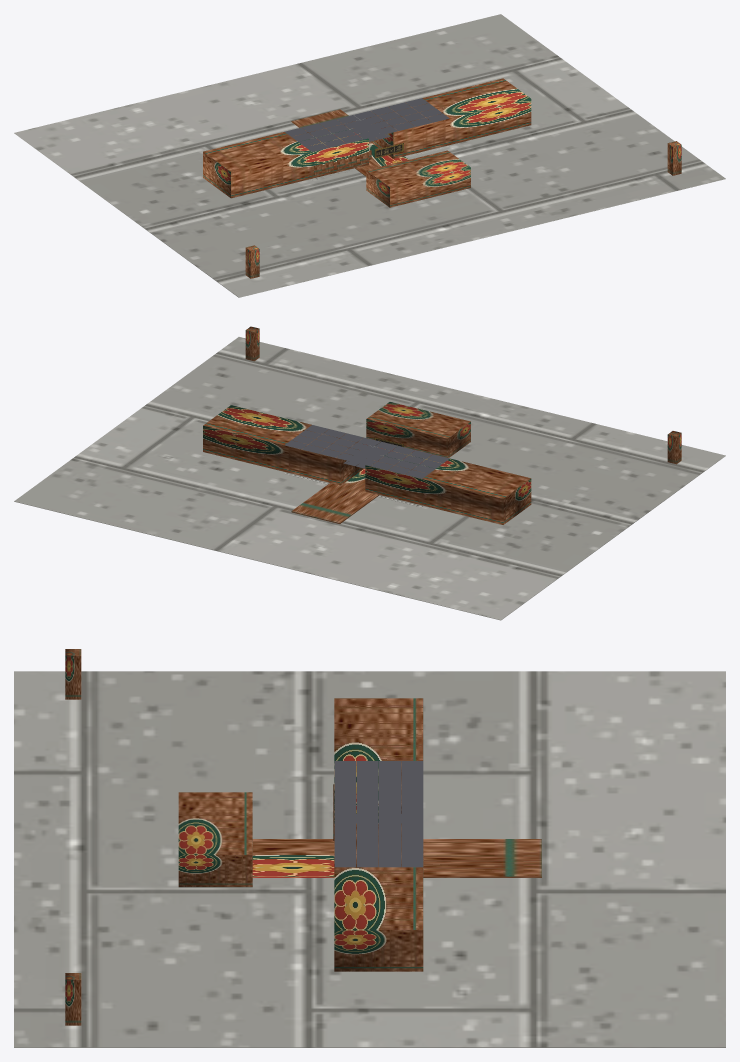
3 views of the same model, one above another, from view 1: azimuth 30°, elevation 25°; view 2: azimuth 150°, elevation 25°; view 3: azimuth 270°, elevation 25° (orthographic). The views are drawn at different scales.
Parts seen in each view (by area): view 1: 11710_01_05769_045_01_L2__base, 11710_01_05769_045_02_L2__body, 11710_01_05769_045_03_L2__roof, 11710_01_05769_045_06_L2__green, 11710_01_05769_045_05_L2__openings; view 2: 11710_01_05769_045_01_L2__base, 11710_01_05769_045_02_L2__body, 11710_01_05769_045_03_L2__roof, 11710_01_05769_045_06_L2__green; view 3: 11710_01_05769_045_01_L2__base, 11710_01_05769_045_02_L2__body, 11710_01_05769_045_03_L2__roof, 11710_01_05769_045_06_L2__green.
Boxes of the visible parts, x1,y1,x2,y2 form: 11710_01_05769_045_01_L2__base: [14, 14, 725, 297]; 11710_01_05769_045_02_L2__body: [203, 78, 531, 207]; 11710_01_05769_045_03_L2__roof: [284, 98, 449, 151]; 11710_01_05769_045_06_L2__green: [245, 141, 681, 278]; 11710_01_05769_045_05_L2__openings: [314, 147, 382, 175]; 11710_01_05769_045_01_L2__base: [14, 337, 725, 620]; 11710_01_05769_045_02_L2__body: [203, 402, 531, 524]; 11710_01_05769_045_03_L2__roof: [285, 425, 449, 478]; 11710_01_05769_045_06_L2__green: [245, 326, 681, 464]; 11710_01_05769_045_01_L2__base: [14, 671, 725, 1047]; 11710_01_05769_045_02_L2__body: [178, 698, 541, 971]; 11710_01_05769_045_03_L2__roof: [334, 761, 423, 867]; 11710_01_05769_045_06_L2__green: [65, 649, 81, 1025].
Size of the model in its own units: 120 by 6.9 by 96.
5 materials, 5 textured.
